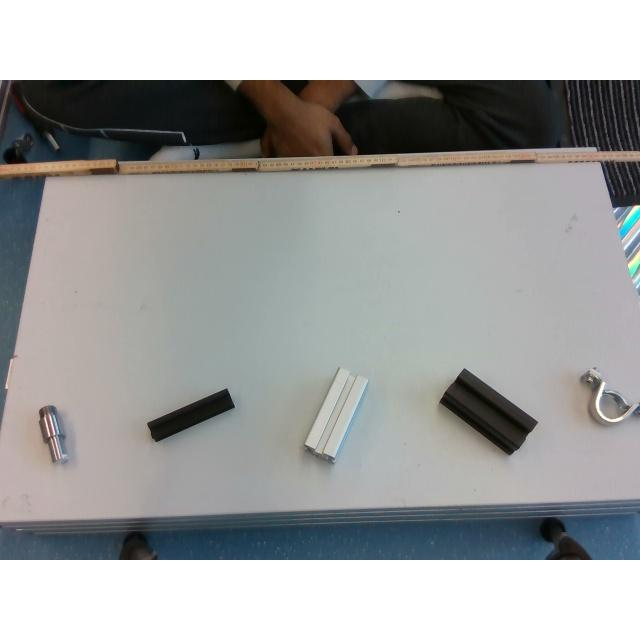Axis2: (40, 406, 68, 462)
F20_20_B: (146, 389, 234, 441)
Housing: (582, 368, 638, 424)
S40_40_B: (439, 370, 536, 454)
S40_40_G: (304, 366, 368, 462)
